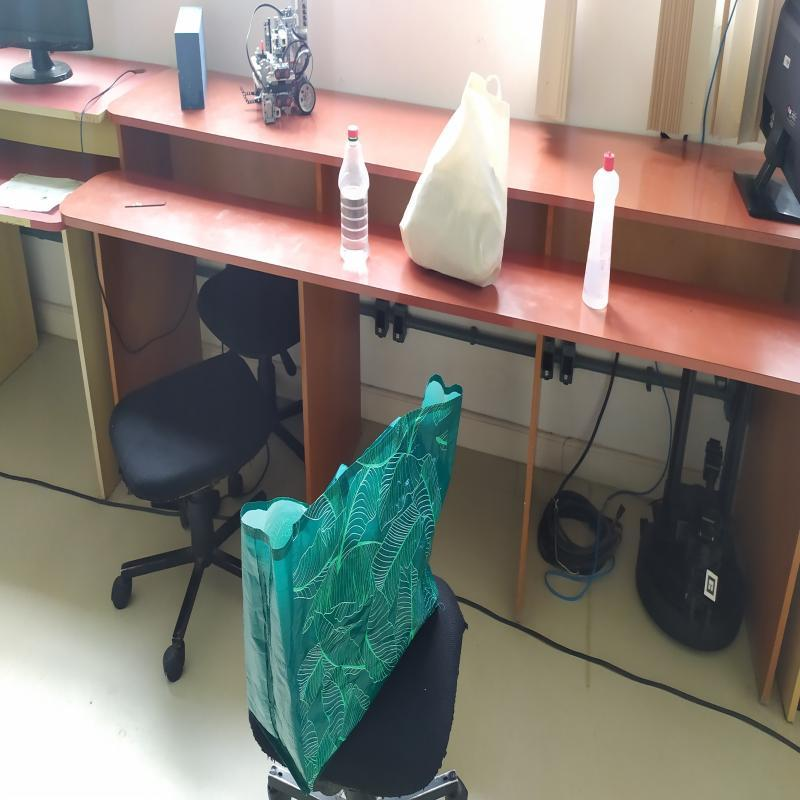Bag: (239, 367, 466, 799), (399, 67, 512, 291)
